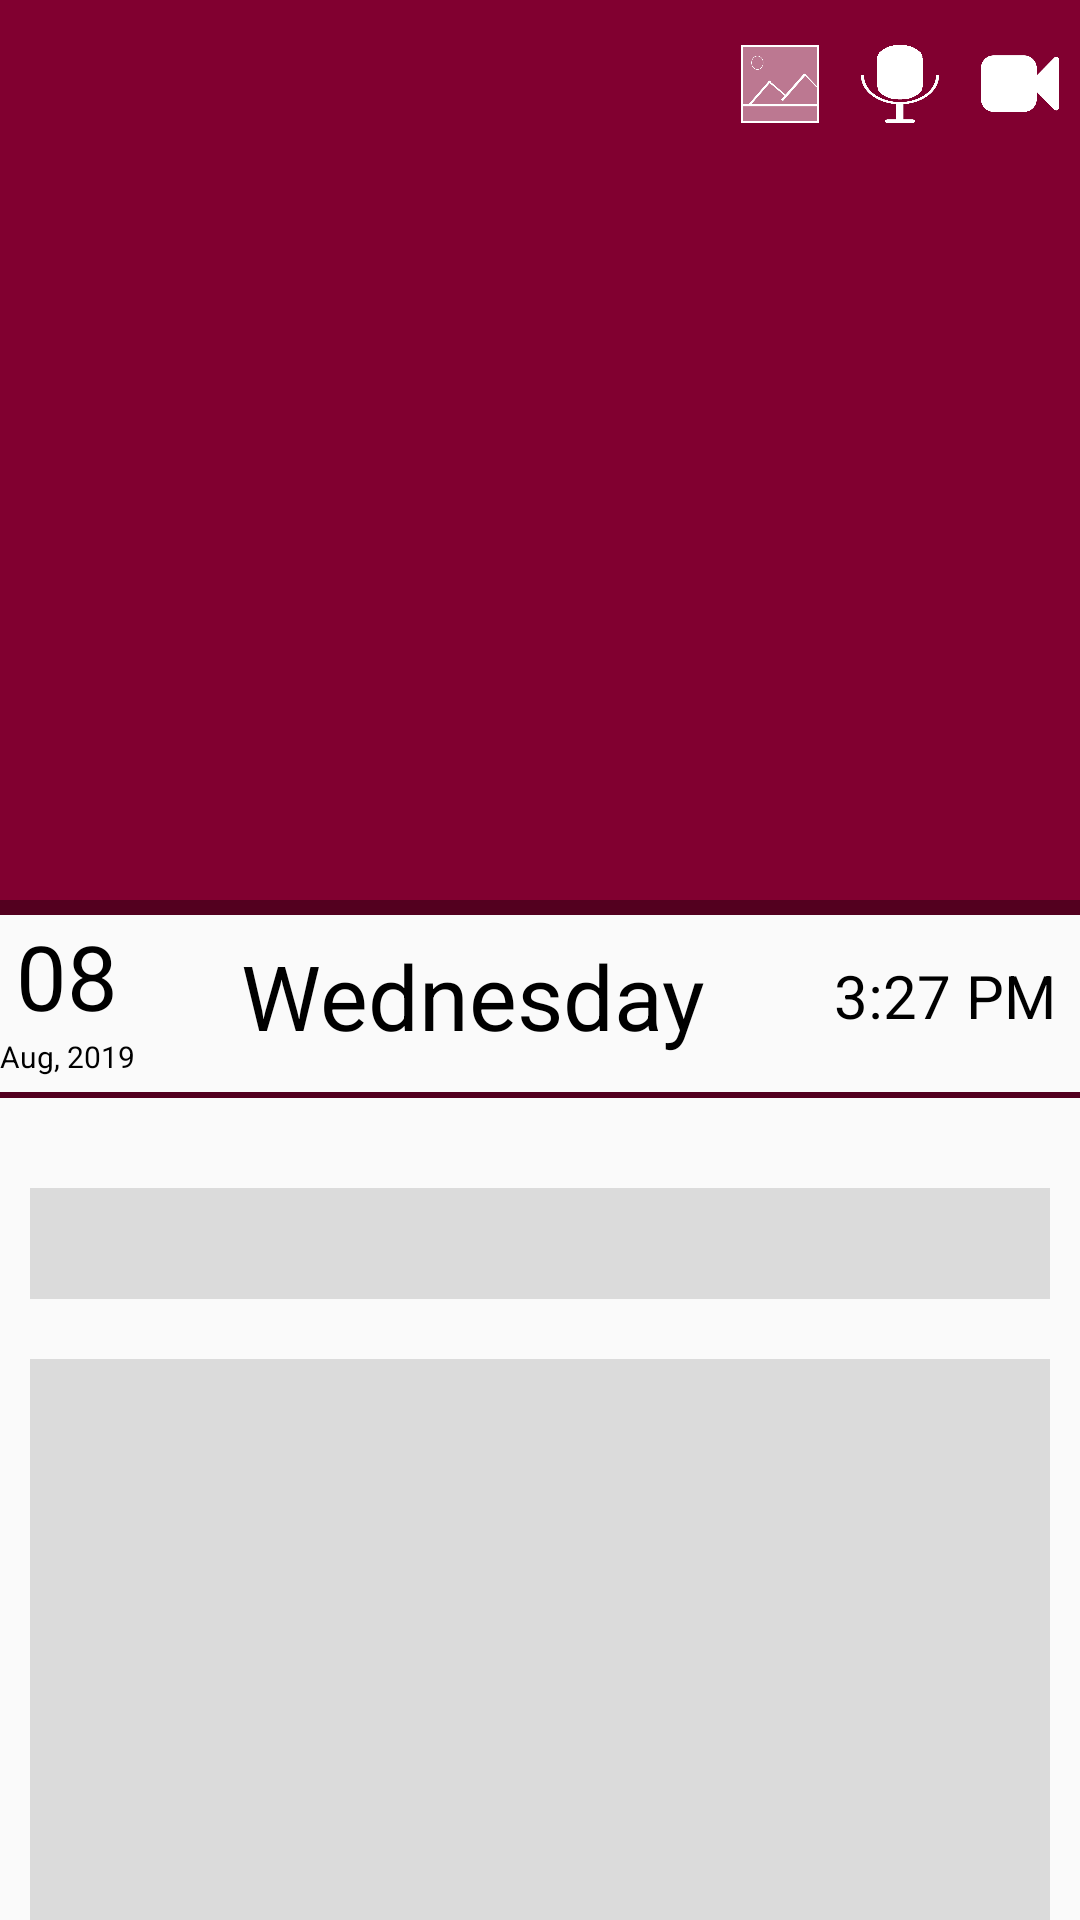

Locate icon controls on the screen. Image size 1080*1920, boxes as (x1, y1, x2, y2).
photo record: (741, 45, 819, 123)
record audio: (861, 45, 939, 123)
video record: (981, 55, 1059, 112)
